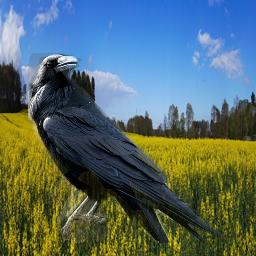Crow: (28, 53, 227, 243)
